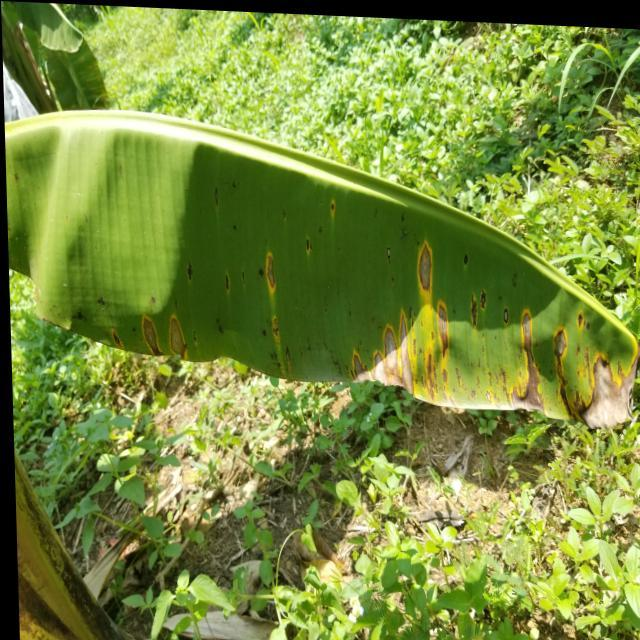Early_rust: (1, 112, 640, 463)
